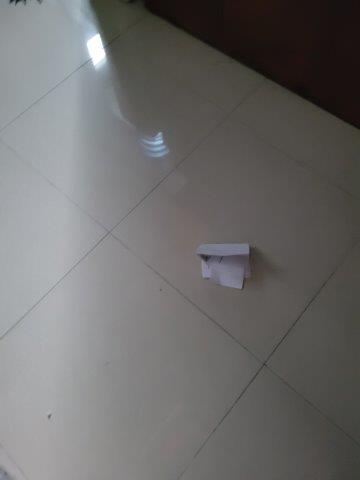kertas: (195, 245, 253, 289)
